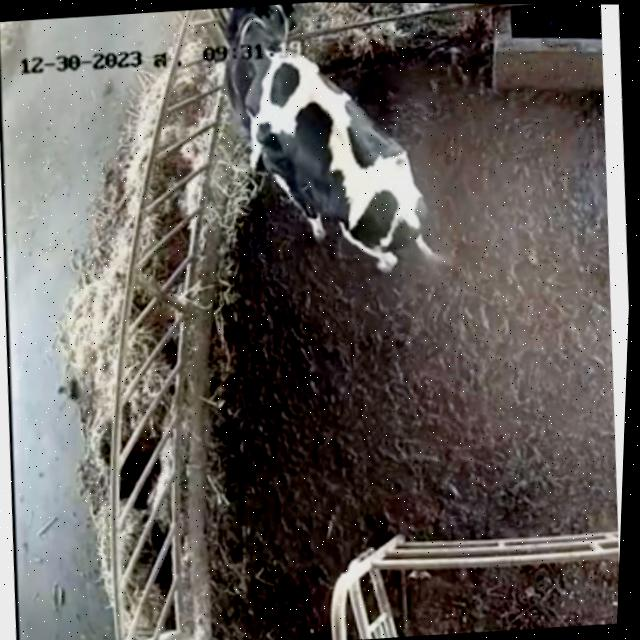ride: (210, 2, 469, 297)
